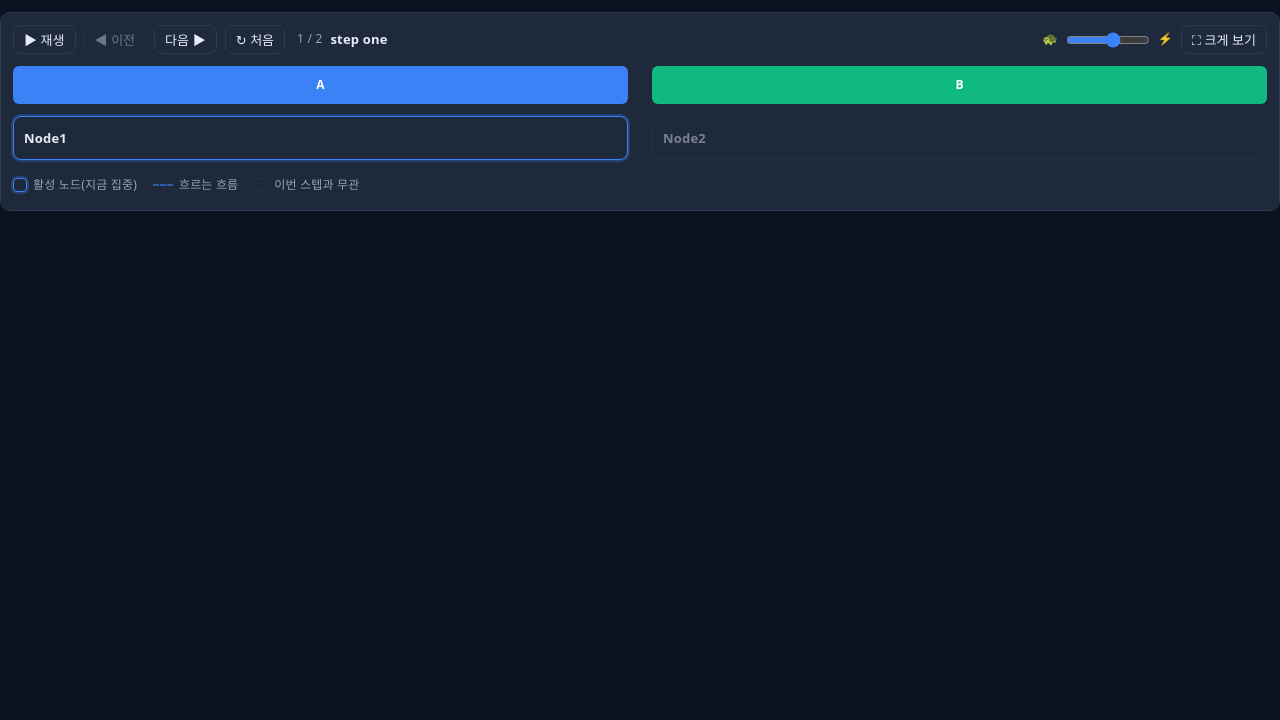
Test: FlowPlayer › keeps step navigation working while expanded
This screenshot has width=1280, height=720.
Click the button "⛶ 크게 보기" at (1224, 40), box [1181,25,1267,54]
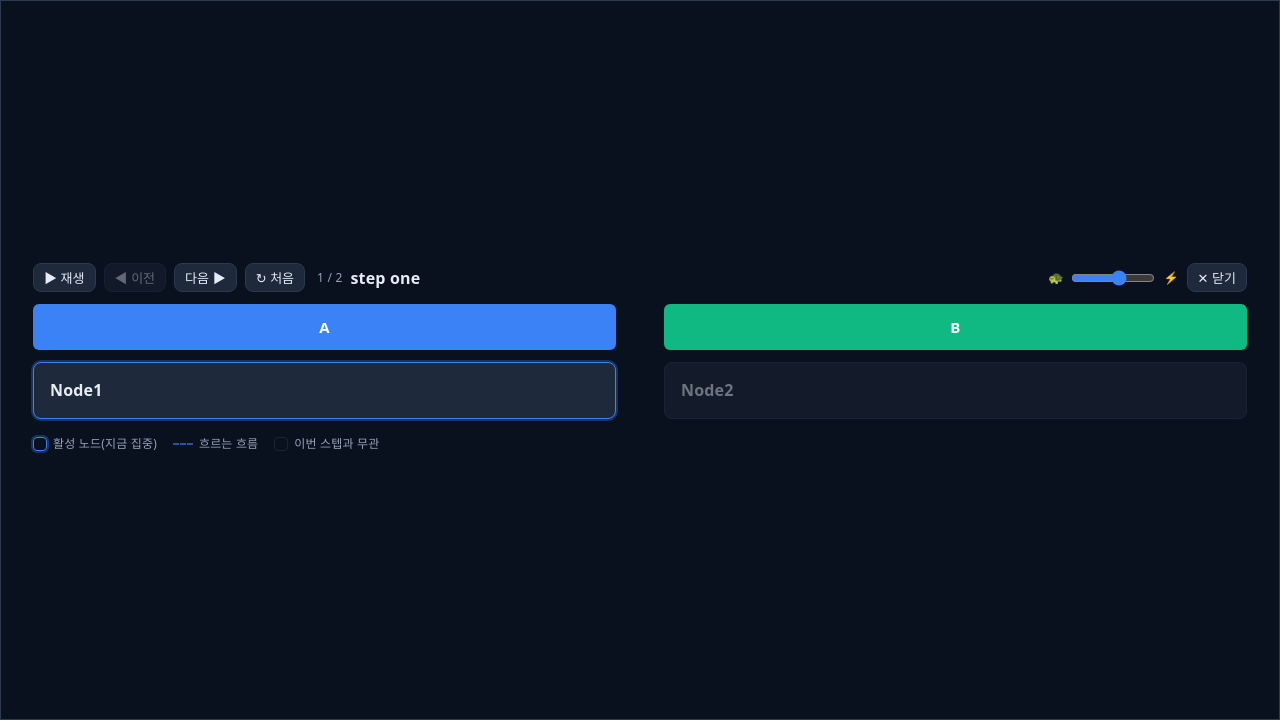
Click the button "다음 ▶" at (205, 278), box [174,263,237,292]
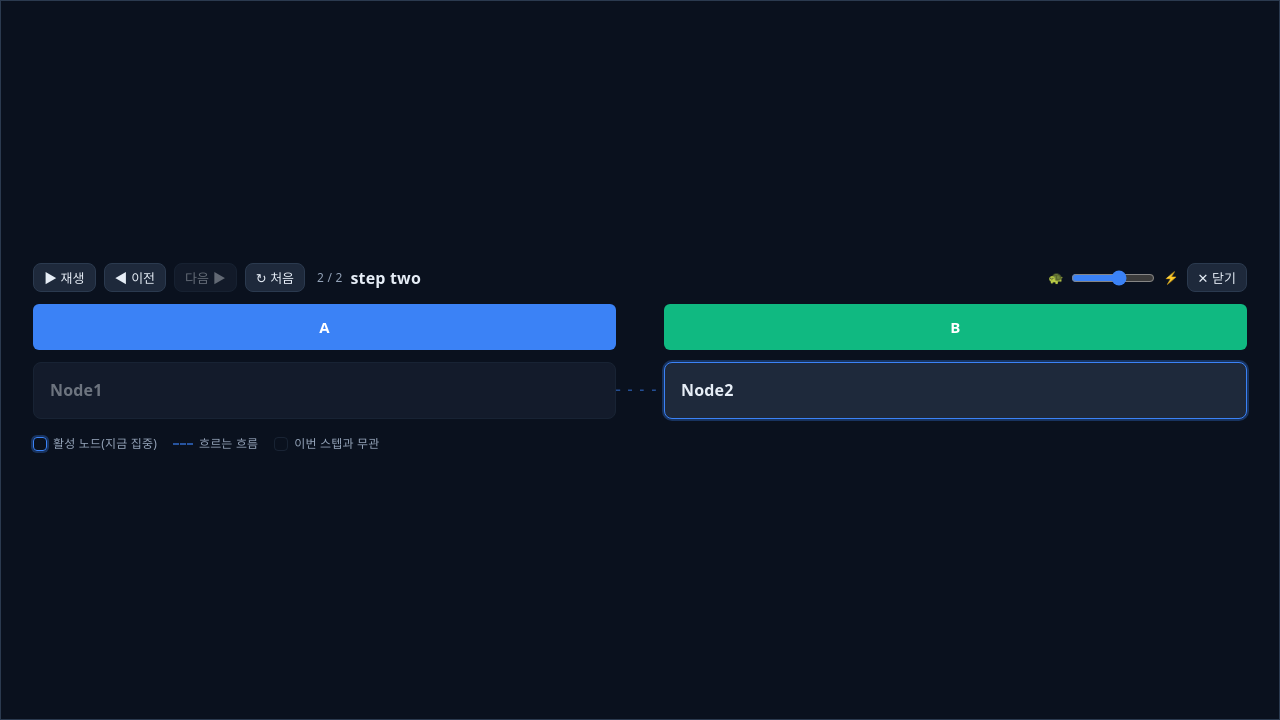
expect the text with class "fp-counter" reads "2 / 2": met, box [317,265,342,291]
